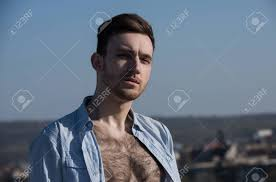white_male: (100, 35, 175, 105)
